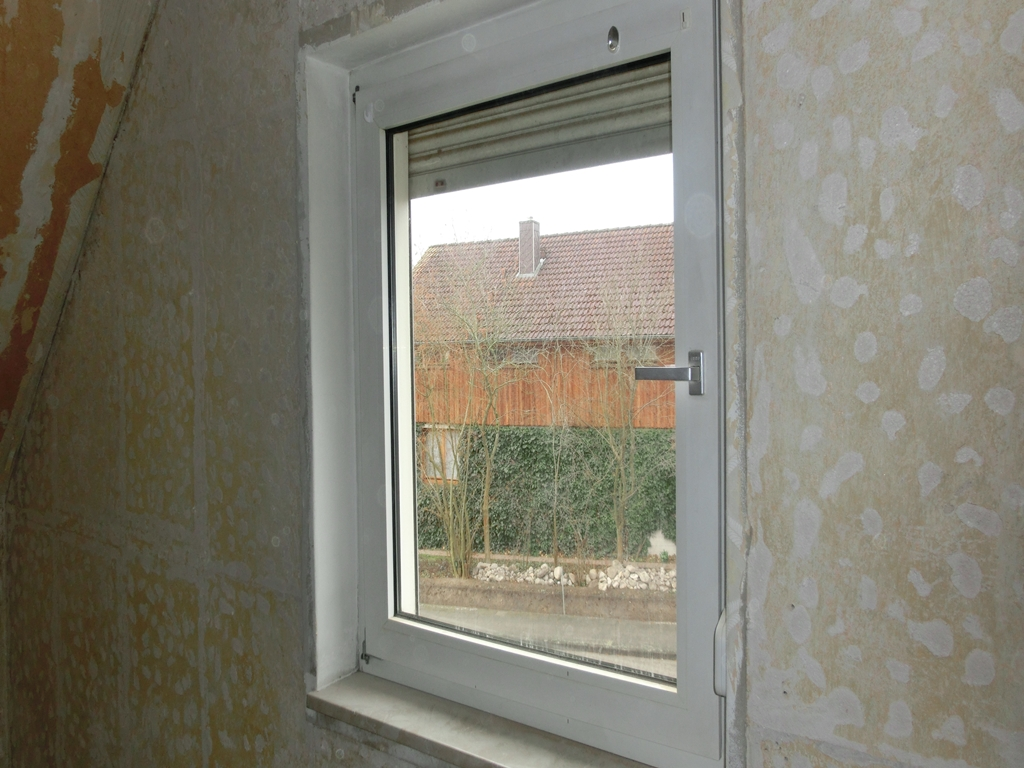windows: (317, 51, 735, 768)
